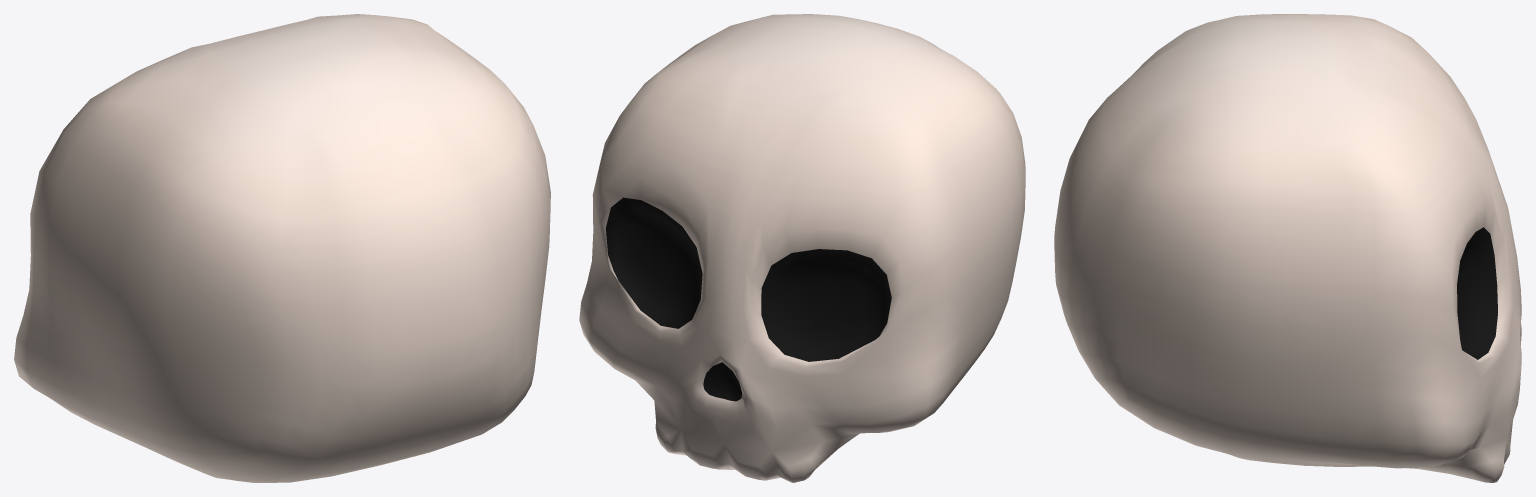
Rendered from Skull.fbx.
3 views of the same model, side by side, from view 1: azimuth 30°, elevation 25°; view 2: azimuth 150°, elevation 25°; view 3: azimuth 270°, elevation 25° (orthographic). The views are drawn at different scales.
Parts seen in each view (by area): view 1: Skull; view 2: Skull; view 3: Skull.
Boxes of the visible parts, x1=… form: Skull: x1=14, y1=14, x2=550, y2=482; Skull: x1=579, y1=14, x2=1025, y2=482; Skull: x1=1054, y1=14, x2=1521, y2=482.
Size of the model in its own units: 179 by 175 by 181.
